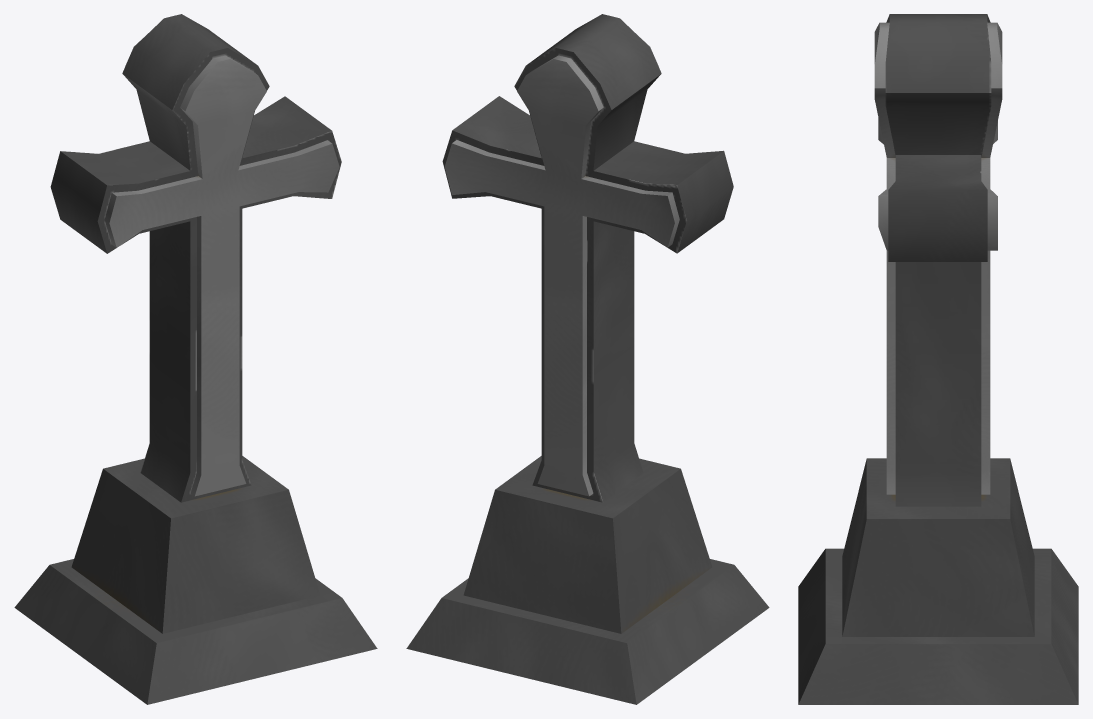
File: CrossTombstone.fbx
3 views of the same model, side by side, from view 1: azimuth 30°, elevation 25°; view 2: azimuth 150°, elevation 25°; view 3: azimuth 270°, elevation 25° (orthographic). The views are drawn at different scales.
Parts seen in each view (by area): view 1: CrossTombstoneNew; view 2: CrossTombstoneNew; view 3: CrossTombstoneNew.
Boxes of the visible parts, x1=… form: CrossTombstoneNew: x1=14, y1=14, x2=377, y2=704; CrossTombstoneNew: x1=406, y1=14, x2=769, y2=704; CrossTombstoneNew: x1=798, y1=14, x2=1078, y2=704.
Size of the model in its own units: 270 by 629 by 255.
1 material, 1 textured.
